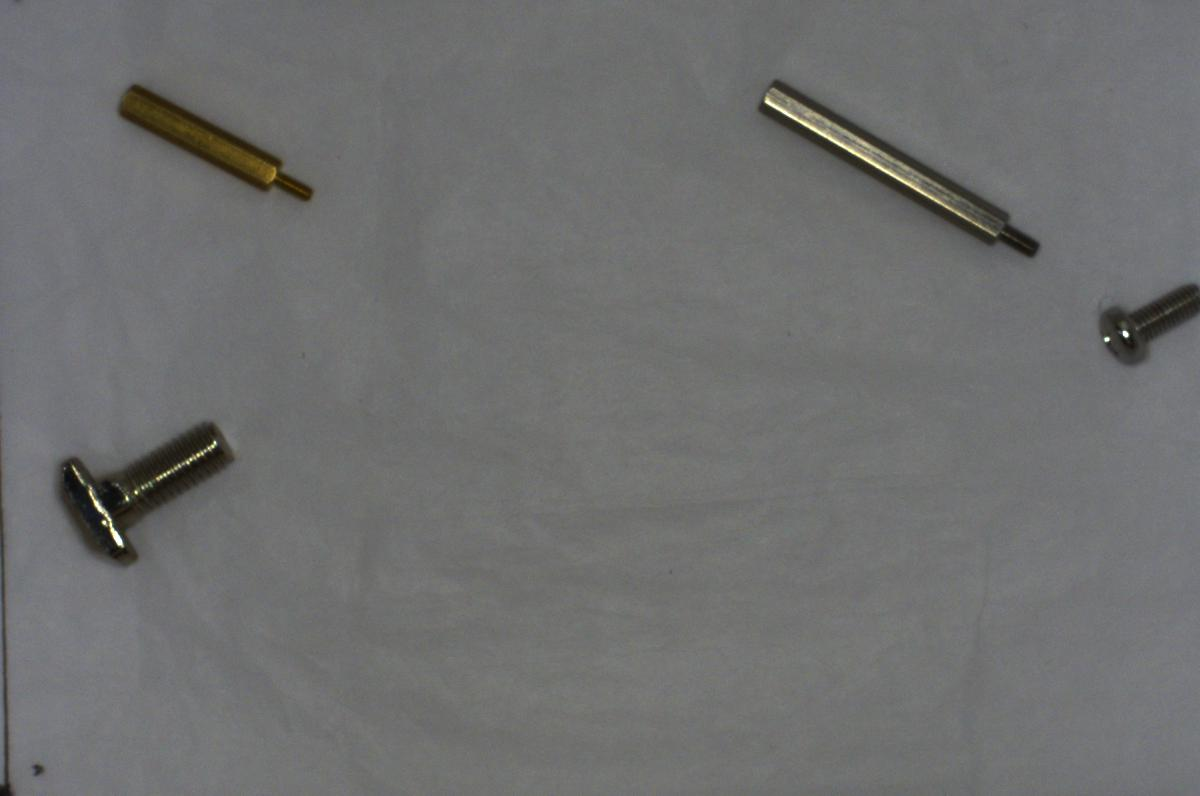Hexagon pillar: (112, 78, 319, 213)
Hexagonal steel column: (744, 80, 1051, 267)
Round head screw: (1093, 273, 1199, 367)
T-shaped screw: (52, 409, 238, 572)
